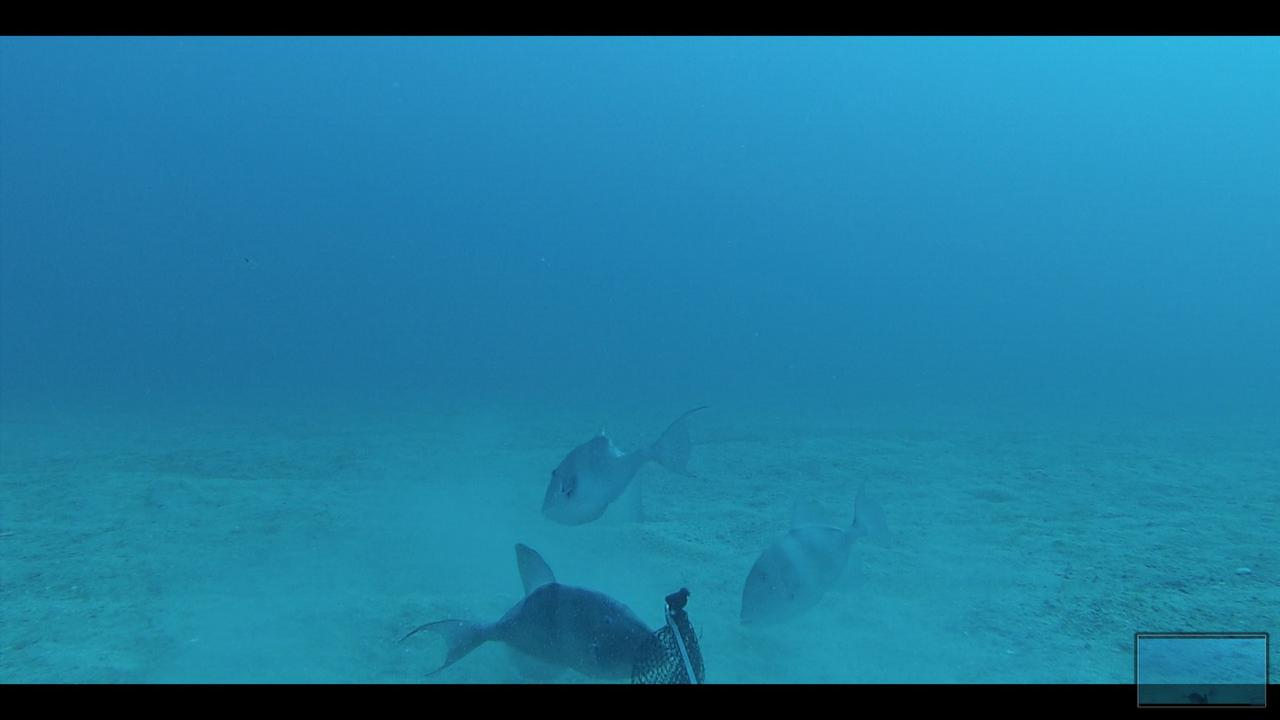balistes: (397, 540, 674, 680), (730, 474, 909, 628), (538, 376, 714, 526)
